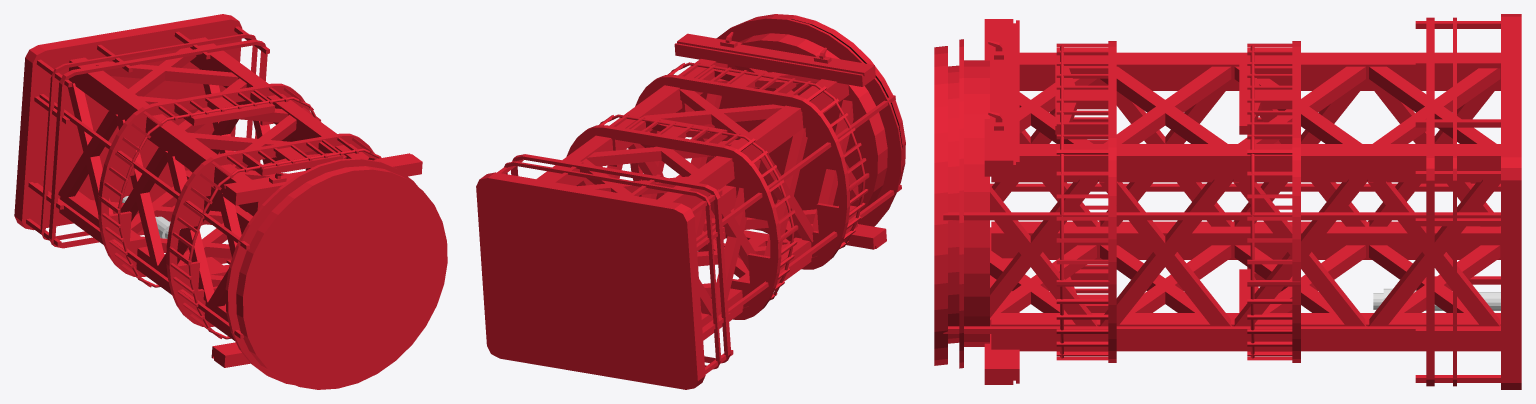
Rendered from tower_up.glb.
3 views of the same model, side by side, from view 1: azimuth 30°, elevation 25°; view 2: azimuth 150°, elevation 25°; view 3: azimuth 270°, elevation 25° (orthographic). The views are drawn at different scales.
Visible parts, largest first — view 1: tower_up; view 2: tower_up; view 3: tower_up.
Boxes of the visible parts, box(x1,y1,x2,y2) form: tower_up: box(14, 14, 447, 389); tower_up: box(476, 14, 905, 389); tower_up: box(934, 14, 1521, 389).
Bounding box in the file's own units: 3.45 × 3.31 × 5.9.
